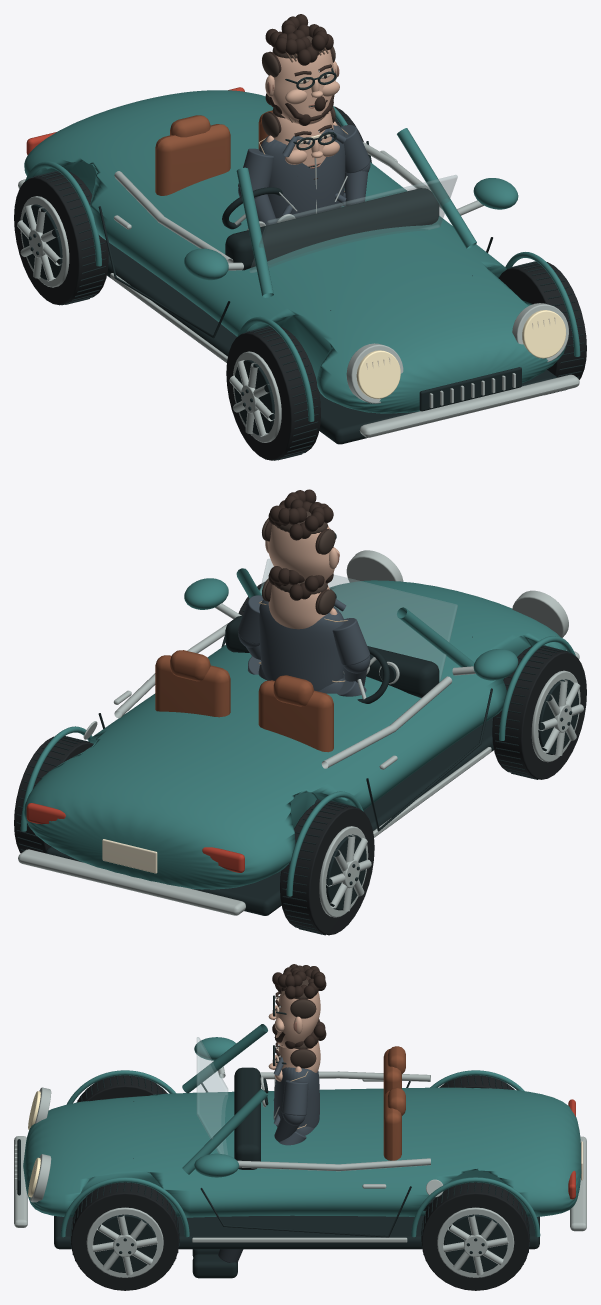
The model's file is racer-kit.glb.
3 views of the same model, one above another, from view 1: azimuth 30°, elevation 25°; view 2: azimuth 150°, elevation 25°; view 3: azimuth 270°, elevation 25° (orthographic). The views are drawn at different scales.
Visible parts, largest first — view 1: Vehicle / Coupe paint, Vehicle / Charcoal, Vehicle / Satin aluminium, Windscreen, Standing_dario / dario / jacket, Road tire.001, Road tire, Vehicle / Saddle leather, Vehicle / Warm headlight, Road tire.003, Wheel_FL / Satin aluminium, Wheel_RL / Satin aluminium (+9 smaller); view 2: Vehicle / Coupe paint, Vehicle / Satin aluminium, Vehicle / Saddle leather, Vehicle / Charcoal, Standing_dario / dario / jacket, Windscreen, Road tire, Road tire.001, Wheel_RL / Satin aluminium, Wheel_FL / Satin aluminium, Standing_elon / elon / skin, Standing_dario / dario / hair (+10 smaller); view 3: Vehicle / Coupe paint, Vehicle / Charcoal, Vehicle / Satin aluminium, Road tire.003, Road tire.002, Wheel_FR / Satin aluminium, Wheel_RR / Satin aluminium, Standing_dario / dario / jacket, Vehicle / Saddle leather, Windscreen, Wheel_FR / Charcoal, Wheel_RR / Charcoal (+10 smaller).
Part boxes in pixels (bbox=[...]): Vehicle / Coupe paint: bbox=[24, 90, 580, 421]; Vehicle / Charcoal: bbox=[98, 141, 557, 444]; Vehicle / Satin aluminium: bbox=[18, 142, 579, 437]; Windscreen: bbox=[250, 175, 457, 272]; Standing_dario / dario / jacket: bbox=[238, 125, 370, 225]; Road tire.001: bbox=[226, 326, 320, 460]; Road tire: bbox=[14, 171, 108, 305]; Vehicle / Saddle leather: bbox=[155, 110, 272, 195]; Vehicle / Warm headlight: bbox=[356, 310, 566, 398]; Road tire.003: bbox=[498, 262, 586, 379]; Wheel_FL / Satin aluminium: bbox=[229, 351, 281, 442]; Wheel_RL / Satin aluminium: bbox=[17, 196, 69, 287]; Vehicle / Coupe paint: bbox=[20, 568, 575, 896]; Vehicle / Satin aluminium: bbox=[18, 550, 579, 915]; Vehicle / Saddle leather: bbox=[155, 650, 333, 752]; Vehicle / Charcoal: bbox=[45, 616, 493, 915]; Standing_dario / dario / jacket: bbox=[238, 595, 370, 691]; Windscreen: bbox=[260, 559, 457, 681]; Road tire: bbox=[280, 801, 374, 935]; Road tire.001: bbox=[492, 646, 586, 779]; Wheel_RL / Satin aluminium: bbox=[319, 826, 371, 917]; Wheel_FL / Satin aluminium: bbox=[531, 670, 583, 762]; Standing_elon / elon / skin: bbox=[265, 524, 337, 583]; Standing_dario / dario / hair: bbox=[264, 489, 333, 553]; Vehicle / Coupe paint: bbox=[23, 1024, 581, 1237]; Vehicle / Charcoal: bbox=[17, 1067, 539, 1249]; Vehicle / Satin aluminium: bbox=[14, 1066, 586, 1242]; Road tire.003: bbox=[71, 1182, 179, 1290]; Road tire.002: bbox=[421, 1182, 529, 1290]; Wheel_FR / Satin aluminium: bbox=[86, 1207, 163, 1277]; Wheel_RR / Satin aluminium: bbox=[437, 1207, 514, 1277]; Standing_dario / dario / jacket: bbox=[273, 1045, 319, 1141]; Vehicle / Saddle leather: bbox=[383, 1046, 405, 1160]; Windscreen: bbox=[197, 1037, 227, 1154]; Wheel_FR / Charcoal: bbox=[70, 1182, 179, 1272]; Wheel_RR / Charcoal: bbox=[421, 1182, 530, 1272].
Bounding box in the file's own units: 2.2 × 2.32 × 4.07.
